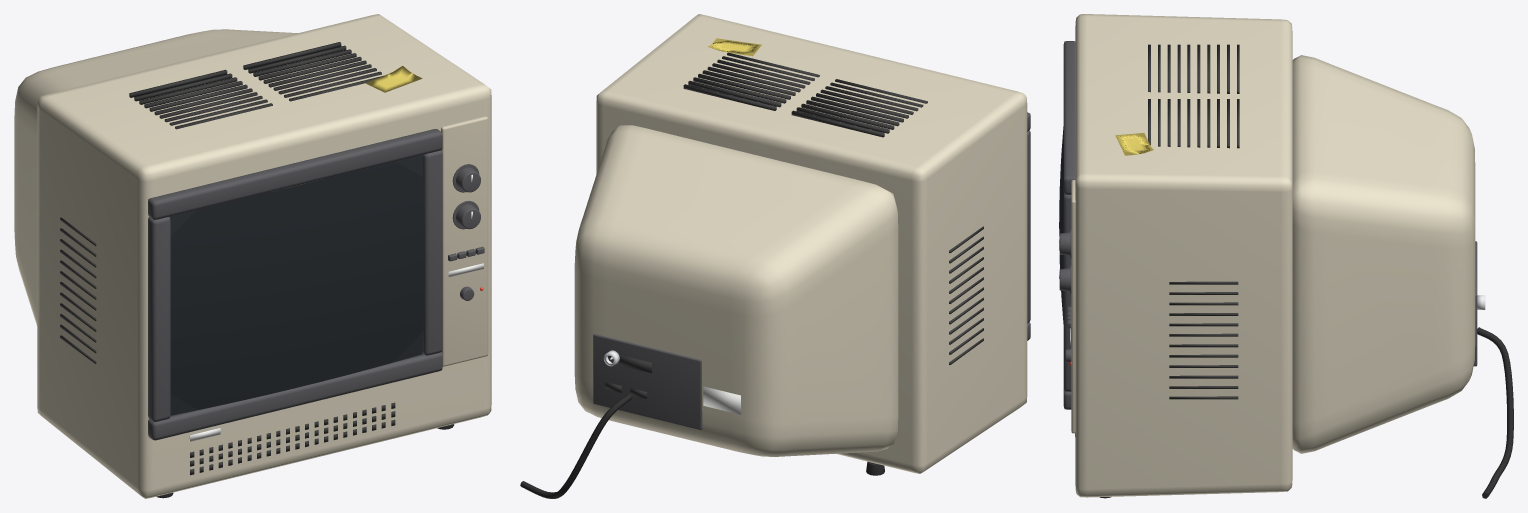
Rendered from electronics_crt_tv.fbx.
3 views of the same model, side by side, from view 1: azimuth 30°, elevation 25°; view 2: azimuth 150°, elevation 25°; view 3: azimuth 270°, elevation 25° (orthographic). The views are drawn at different scales.
Parts seen in each view (by area): view 1: electronics_crt_tv_body, screen; view 2: electronics_crt_tv_body; view 3: electronics_crt_tv_body, screen.
Boxes of the visible parts, bbox=[...] form: electronics_crt_tv_body: bbox=[14, 14, 491, 498]; screen: bbox=[169, 155, 425, 415]; electronics_crt_tv_body: bbox=[520, 14, 1030, 498]; electronics_crt_tv_body: bbox=[1059, 14, 1513, 498]; screen: bbox=[1059, 126, 1063, 323].
Size of the model in its own units: 0.3997 by 0.3784 by 0.4608.
